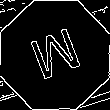M_S: (25, 23, 85, 87)
